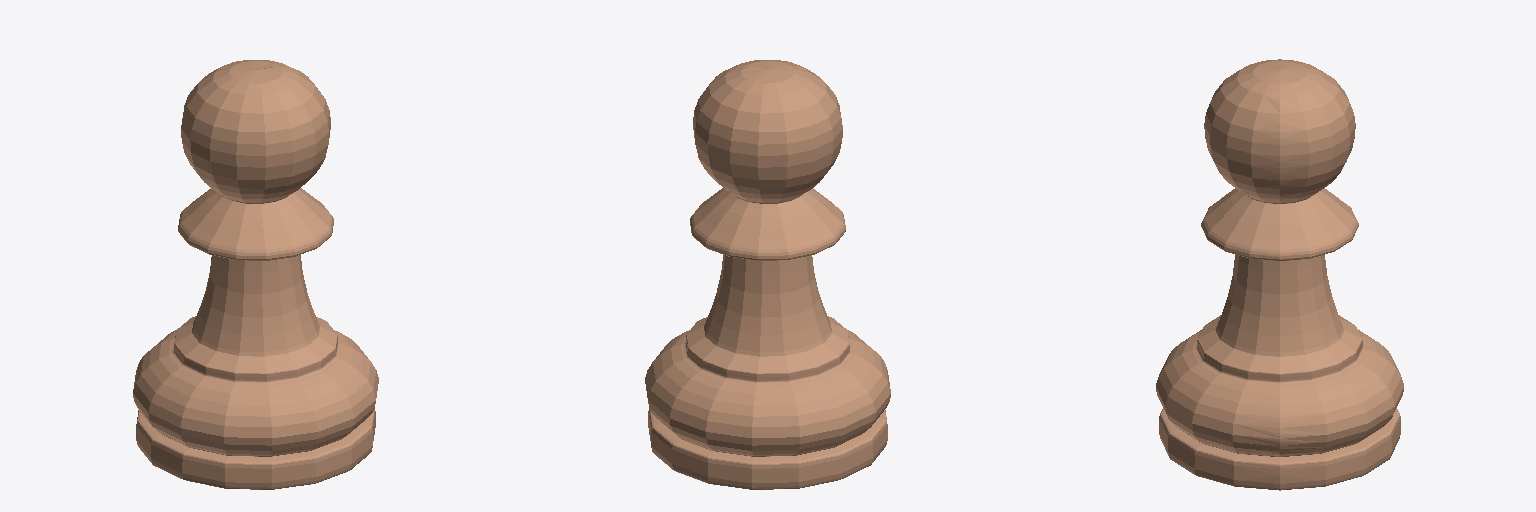
Rendered from peonB_ficha.obj.
3 renders of one model, left to right at view 1: azimuth 30°, elevation 25°; view 2: azimuth 150°, elevation 25°; view 3: azimuth 270°, elevation 25°, orthographic.
Parts seen in each view (by area): view 1: pawn_king_bishop_chess_revolvedSurface2; view 2: pawn_king_bishop_chess_revolvedSurface2; view 3: pawn_king_bishop_chess_revolvedSurface2.
Boxes of the visible parts, x1=… form: pawn_king_bishop_chess_revolvedSurface2: x1=133, y1=60, x2=378, y2=489; pawn_king_bishop_chess_revolvedSurface2: x1=645, y1=60, x2=890, y2=489; pawn_king_bishop_chess_revolvedSurface2: x1=1156, y1=59, x2=1403, y2=490.
Size of the model in its own units: 3.7 by 6.11 by 3.7.